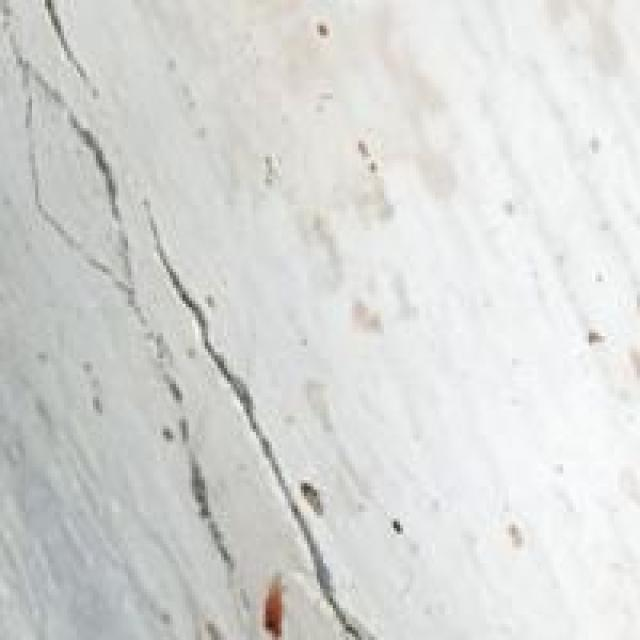crack: (102, 115, 416, 637)
